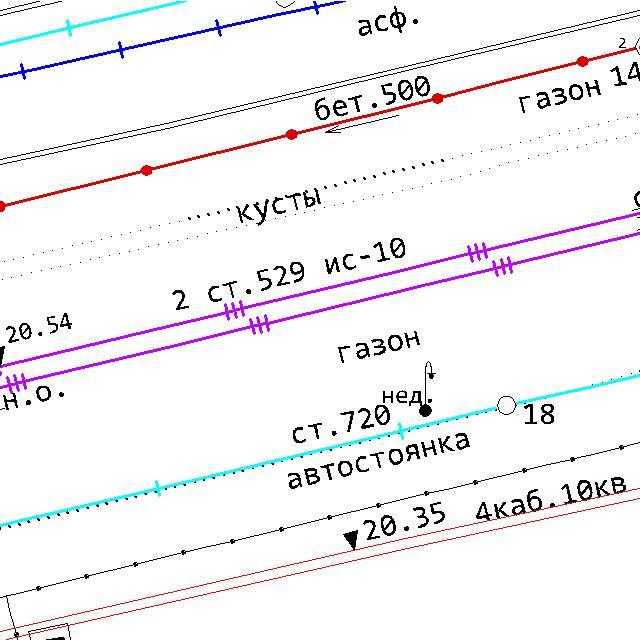asphalt: (356, 4, 419, 38)
mark: (342, 528, 360, 552)
well: (493, 393, 520, 417)
